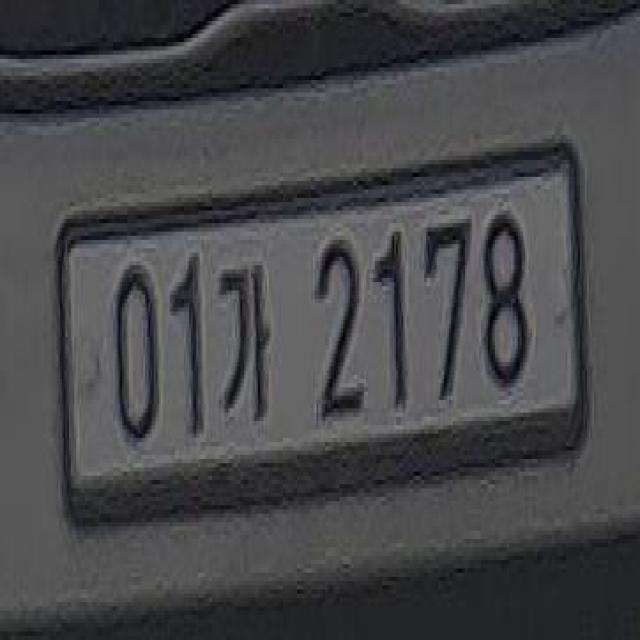illegal_plate: (58, 141, 591, 534)
